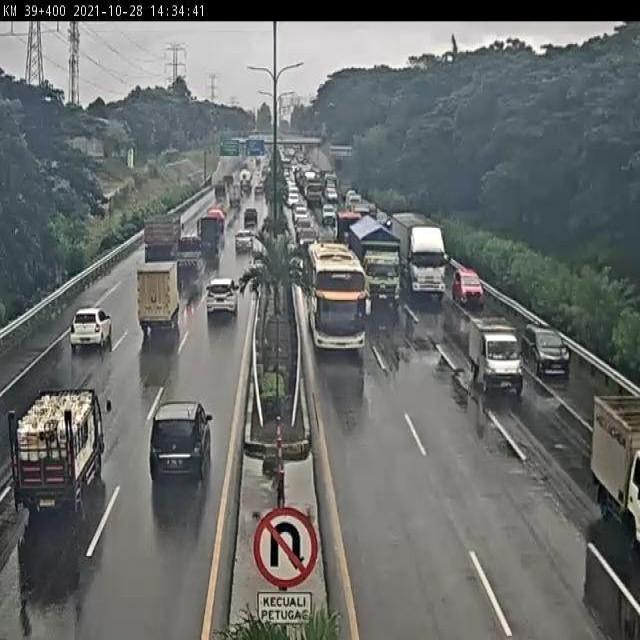big bus: (299, 241, 375, 359)
big truck: (355, 213, 403, 312), (403, 215, 449, 309), (137, 202, 184, 262)
car: (140, 384, 220, 501), (469, 308, 528, 407), (58, 297, 123, 372), (518, 320, 582, 395), (199, 262, 246, 334), (452, 266, 487, 314), (233, 225, 256, 255), (320, 200, 336, 231), (243, 205, 260, 227)
small truck: (0, 374, 117, 530), (578, 373, 640, 539), (130, 256, 196, 359), (174, 230, 202, 274)
